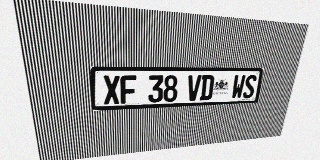3: (148, 75, 164, 103)
8: (163, 75, 178, 102)
D: (199, 75, 215, 100)
F: (120, 75, 136, 104)
S: (242, 75, 257, 98)
V: (186, 75, 202, 101)
W: (231, 75, 246, 99)
X: (103, 75, 120, 105)
